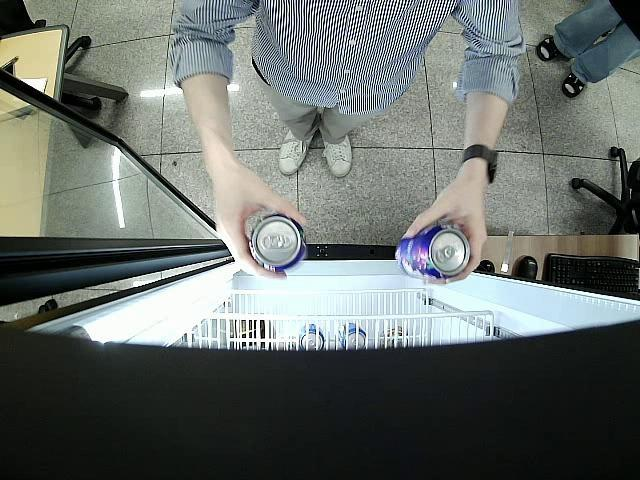14_welchsGrape: (394, 226, 471, 278), (248, 214, 306, 272)
